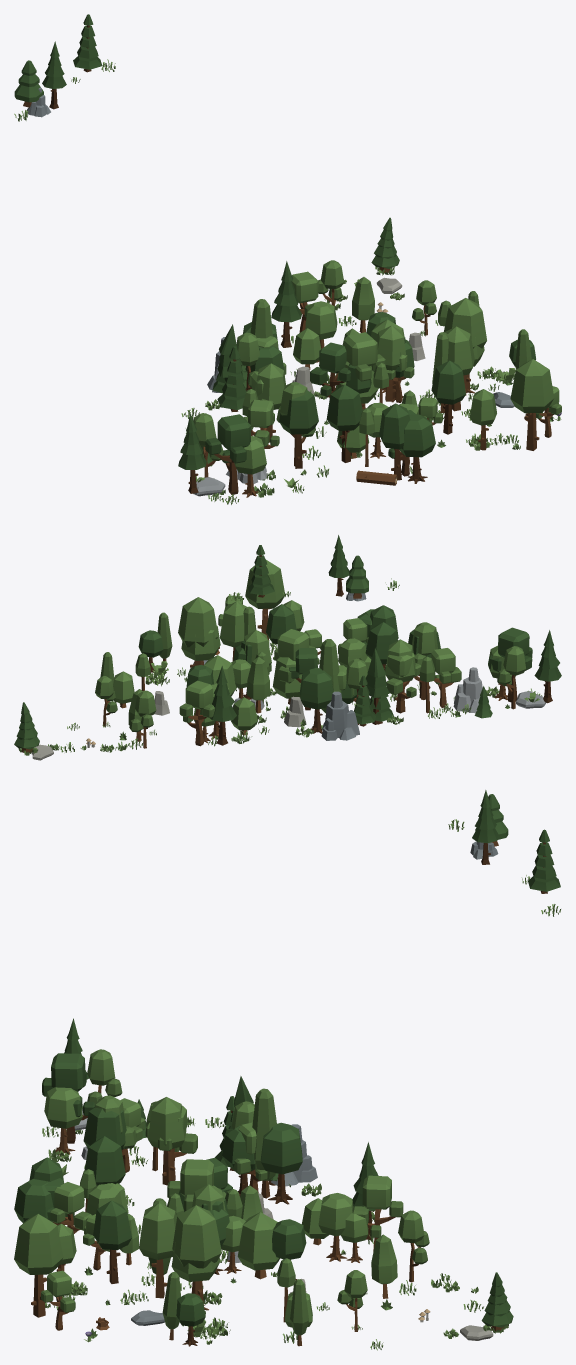
File: cell_x-3_z-2_render.gltf
3 views of the same model, one above another, from view 1: azimuth 30°, elevation 25°; view 2: azimuth 150°, elevation 25°; view 3: azimuth 270°, elevation 25° (orthographic). The views are drawn at different scales.
Visible parts, largest first — view 1: cell_x-3_z-2; view 2: cell_x-3_z-2; view 3: cell_x-3_z-2.
Boxes of the visible parts, x1,y1,x2,y2 form: cell_x-3_z-2: (14, 14, 561, 504); cell_x-3_z-2: (14, 535, 561, 760); cell_x-3_z-2: (14, 790, 560, 1350).
Bounding box in the file's own units: 40.35 × 31.49 × 41.8.
